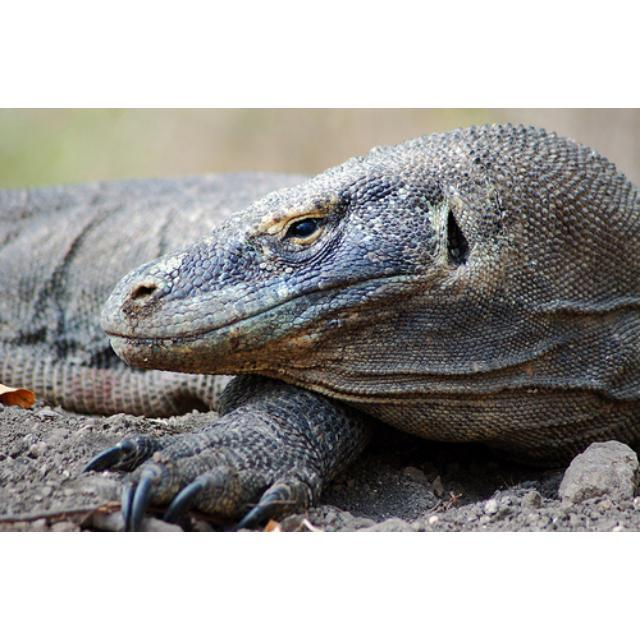KomodoDragon: (1, 122, 638, 531)
